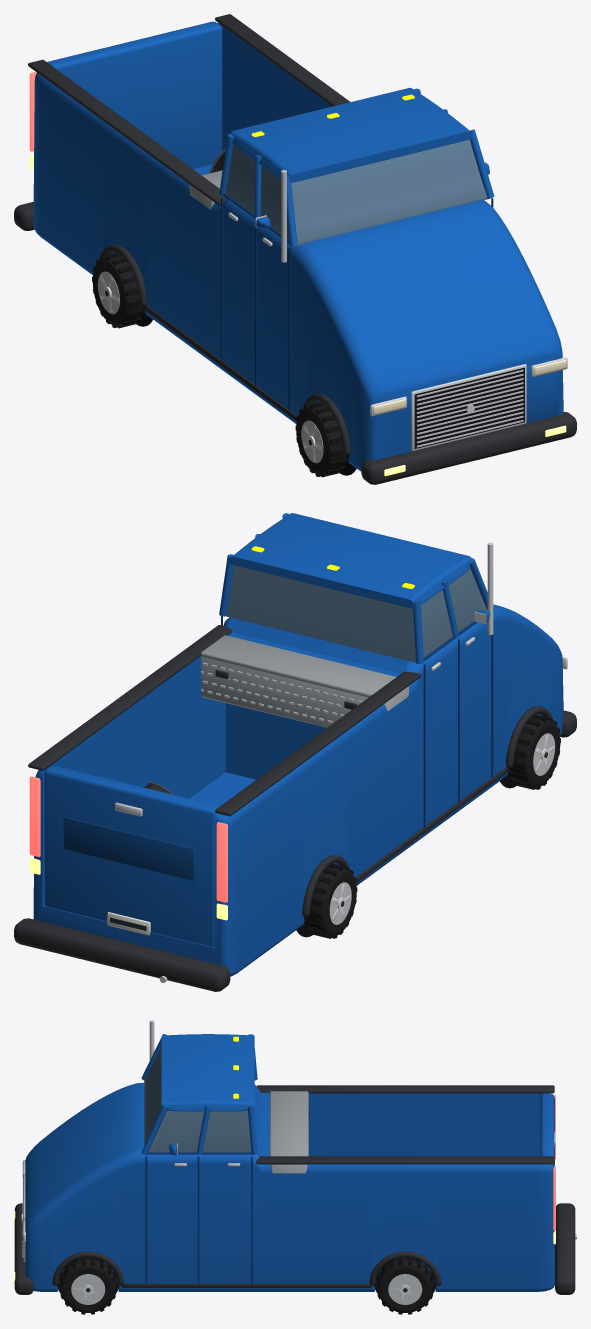
The model's file is beach.fbx.
3 views of the same model, one above another, from view 1: azimuth 30°, elevation 25°; view 2: azimuth 150°, elevation 25°; view 3: azimuth 270°, elevation 25° (orthographic). The views are drawn at different scales.
Parts seen in each view (by area): view 1: Body, Tailgate, Wheel_3, Wheel_1, Obstructions; view 2: Body, Tailgate, Obstructions, Wheel_1, Wheel_3; view 3: Body, Obstructions, Wheel_0, Wheel_2, Tailgate.
Boxes of the visible parts, x1,y1,x2,y2 form: Body: (14,14,576,484); Tailgate: (47,21,222,168); Wheel_3: (295,402,347,477); Wheel_1: (92,253,144,328); Obstructions: (189,148,225,209); Body: (14,513,576,991); Tailgate: (44,765,219,946); Obstructions: (144,635,408,794); Wheel_1: (305,863,357,938); Wheel_3: (508,714,560,789); Body: (14,1020,576,1294); Obstructions: (270,1091,309,1173); Wheel_0: (376,1257,433,1314); Wheel_2: (59,1257,116,1314); Tailgate: (540,1093,555,1163).
Bounding box in the file's own units: 5.5 × 6.11 × 14.56.
